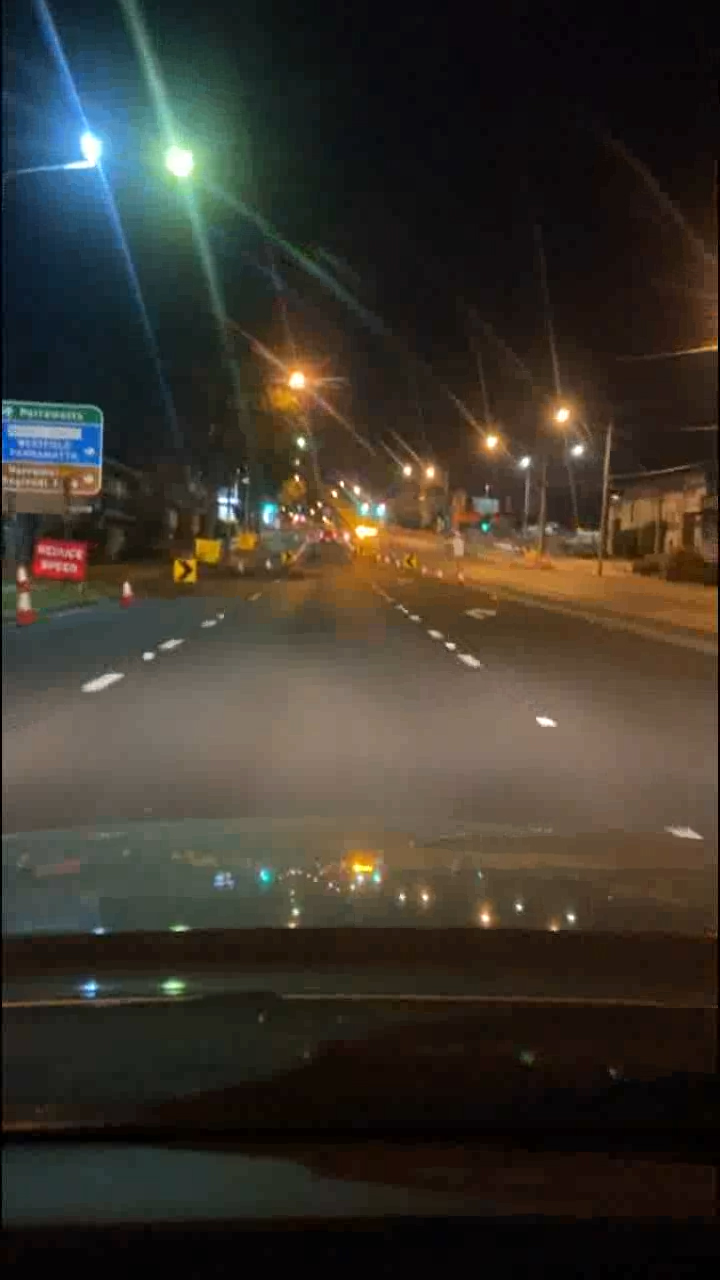road cone: (114, 579, 137, 604), (18, 592, 29, 621)
road works sign board: (35, 538, 83, 583), (195, 540, 224, 567), (175, 559, 193, 581), (408, 554, 414, 563)
